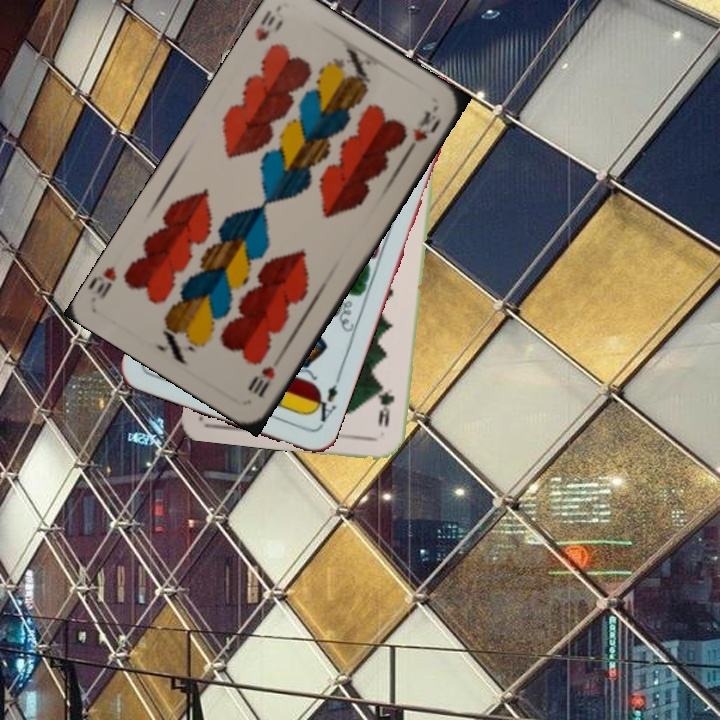EA: (307, 372, 344, 430)
G9: (374, 381, 397, 430)
H10: (244, 362, 278, 400), (251, 6, 278, 44)
